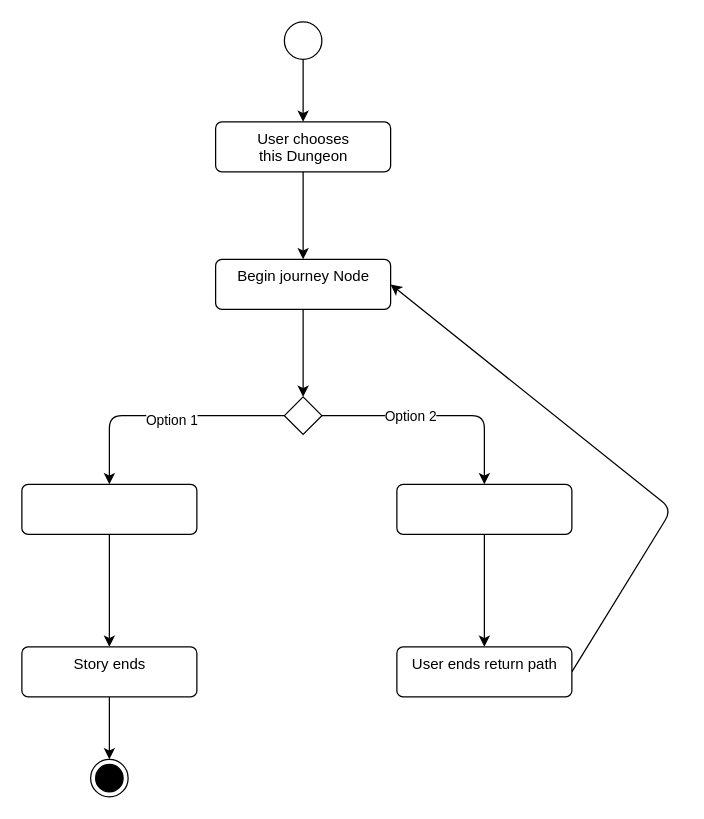
This 704x819 diagram has some shape labels left out. Here are the shapes that lost their labels. From the top down, the box of each, then its label:
(21, 483, 197, 534): User progresses down the end path
(396, 483, 572, 534): User progresses down the return path
